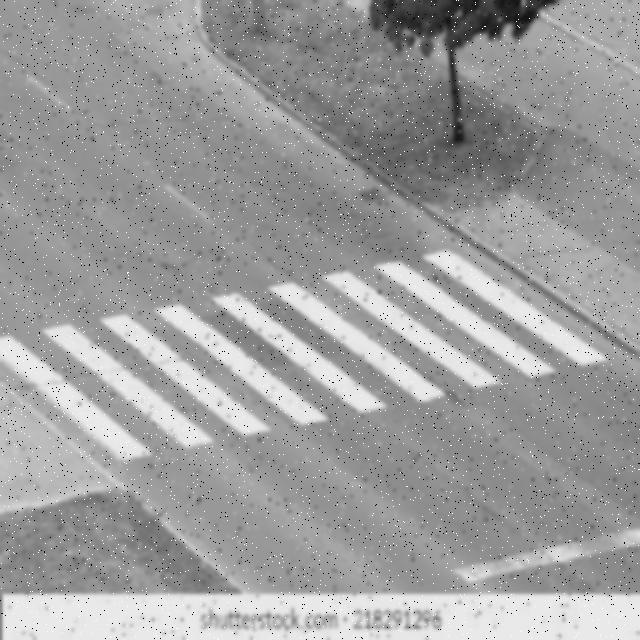crosswalk: (0, 249, 610, 465)
